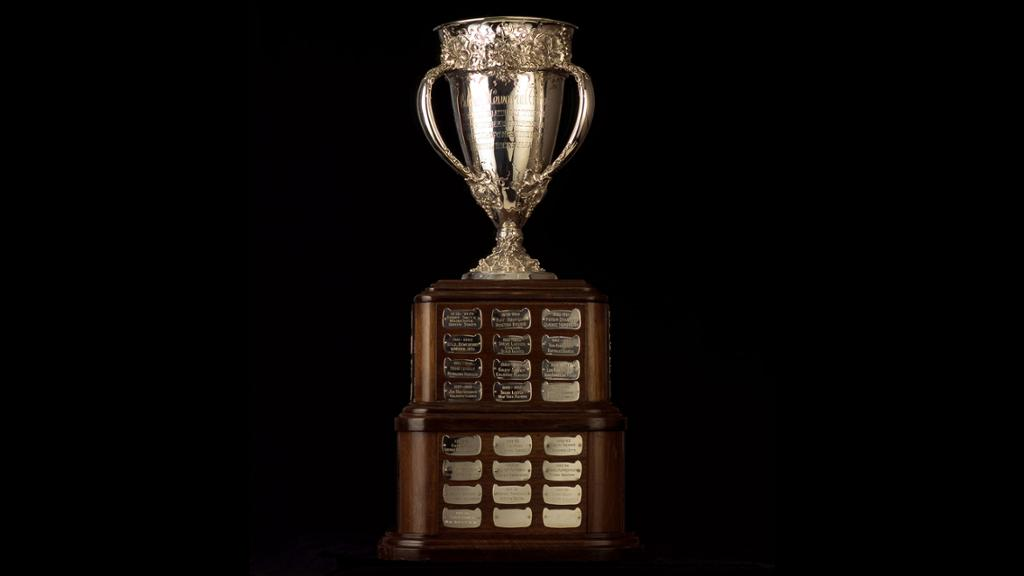trophy: (393, 15, 622, 306)
